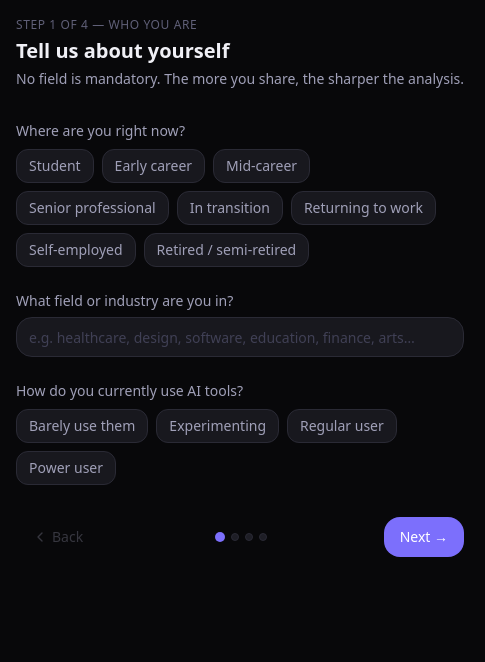
it: QuestionnaireScreen › back button returns from step 2 to step 1
The width and height of the screenshot is (485, 662).
Click the button "Next →" at (424, 537), box x1=384 y1=517 x2=464 y2=557
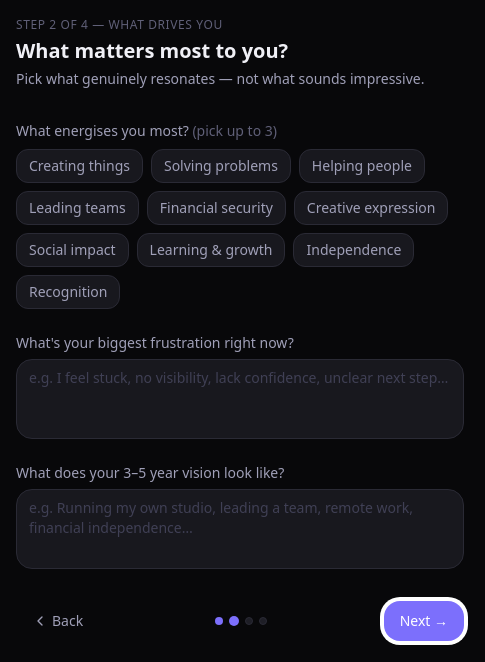
Click the button "Back" at (58, 621), box x1=16 y1=601 x2=99 y2=641
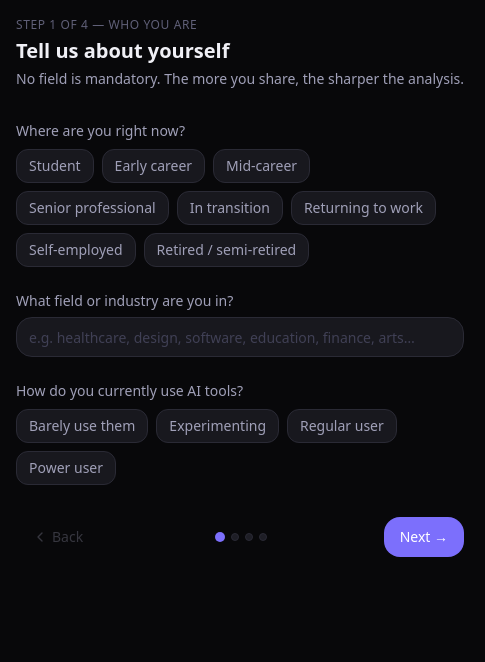
Check: the text "Step 1 of 4 — who you are" is shown, box x1=16 y1=16 x2=197 y2=33
